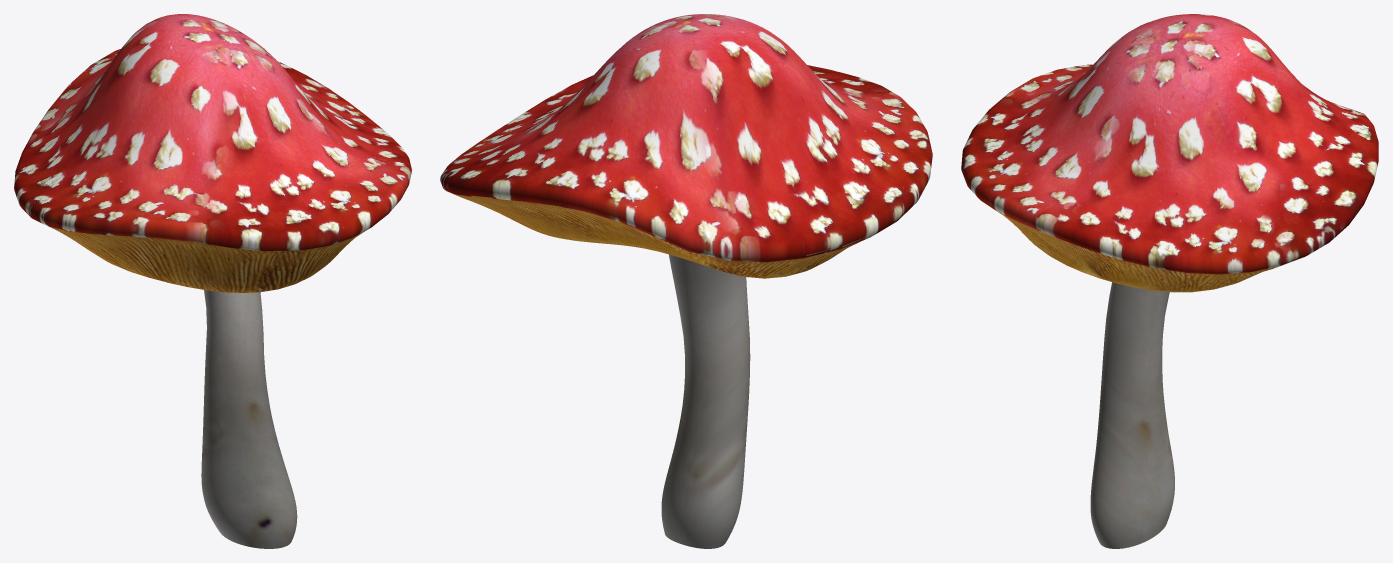
The model's file is mush_my.fbx.
3 views of the same model, side by side, from view 1: azimuth 30°, elevation 25°; view 2: azimuth 150°, elevation 25°; view 3: azimuth 270°, elevation 25° (orthographic). The views are drawn at different scales.
Parts seen in each view (by area): view 1: mush; view 2: mush; view 3: mush.
Boxes of the visible parts, x1=… form: mush: x1=14, y1=14, x2=411, y2=548; mush: x1=440, y1=14, x2=932, y2=548; mush: x1=961, y1=14, x2=1378, y2=548.
Size of the model in its own units: 158 by 205 by 157.
